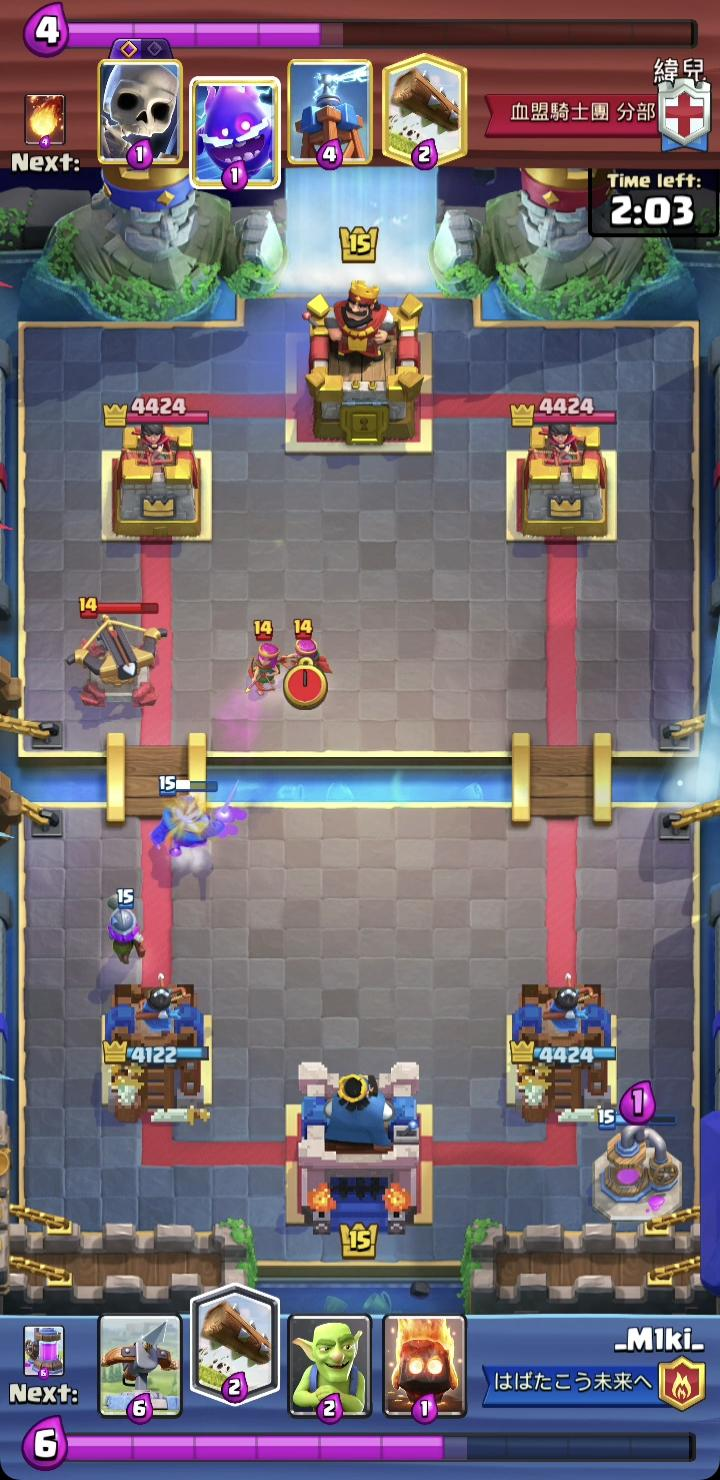ally_elixirpump: (592, 1106, 686, 1225)
ally_knight: (151, 773, 244, 859)
ally_musketeer: (106, 886, 147, 965)
enemy_archer: (283, 619, 333, 698), (246, 616, 288, 698)
enemy_xbow: (65, 596, 171, 710)
